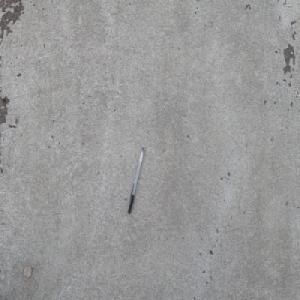Pen: (127, 146, 144, 215)
